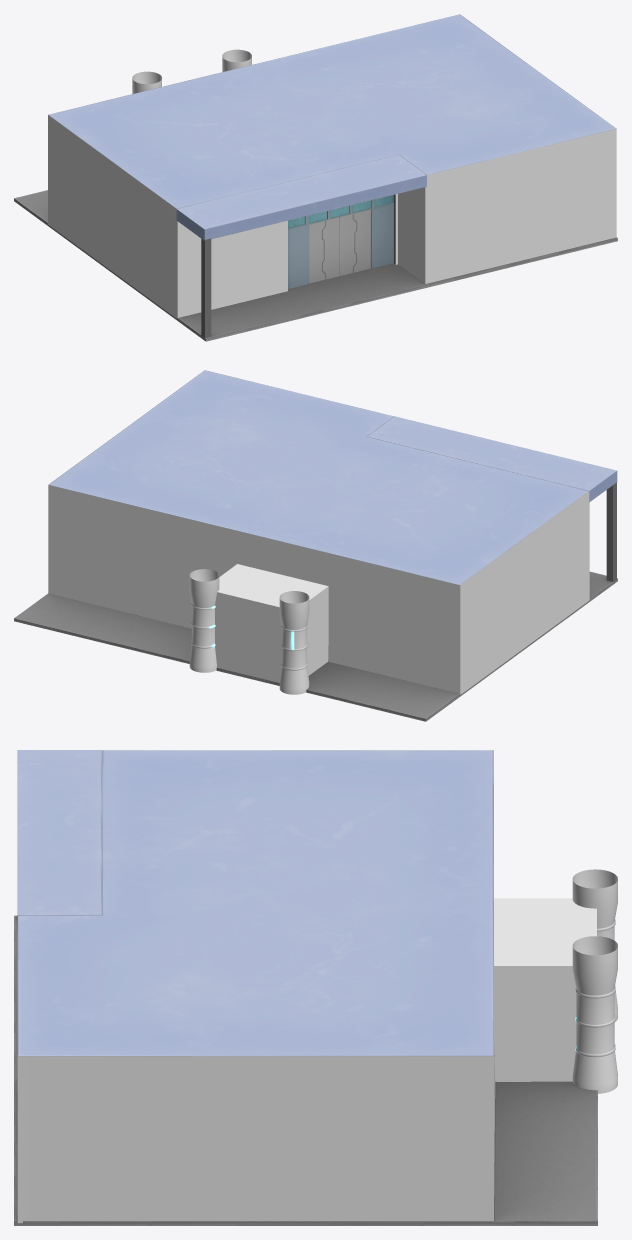
Rendered from CIS_Texture.fbx.
3 views of the same model, one above another, from view 1: azimuth 30°, elevation 25°; view 2: azimuth 150°, elevation 25°; view 3: azimuth 270°, elevation 25° (orthographic). The views are drawn at different scales.
Visible parts, largest first — view 1: Piso_y_Techo, Estructura; view 2: Piso_y_Techo, Estructura; view 3: Piso_y_Techo, Estructura.
Part boxes in pixels (box(x1,y1,x2,y2)): Piso_y_Techo: box(14, 14, 617, 341); Estructura: box(48, 49, 616, 318); Piso_y_Techo: box(14, 370, 617, 721); Estructura: box(48, 485, 589, 694); Piso_y_Techo: box(14, 750, 597, 1225); Estructura: box(17, 869, 617, 1223).
Size of the model in its own units: 15.01 by 3.88 by 12.52.
